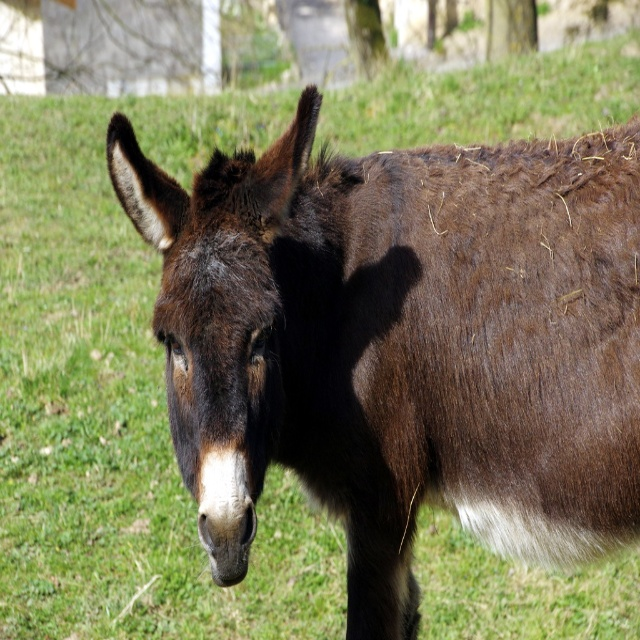Mule: (105, 82, 640, 640)
